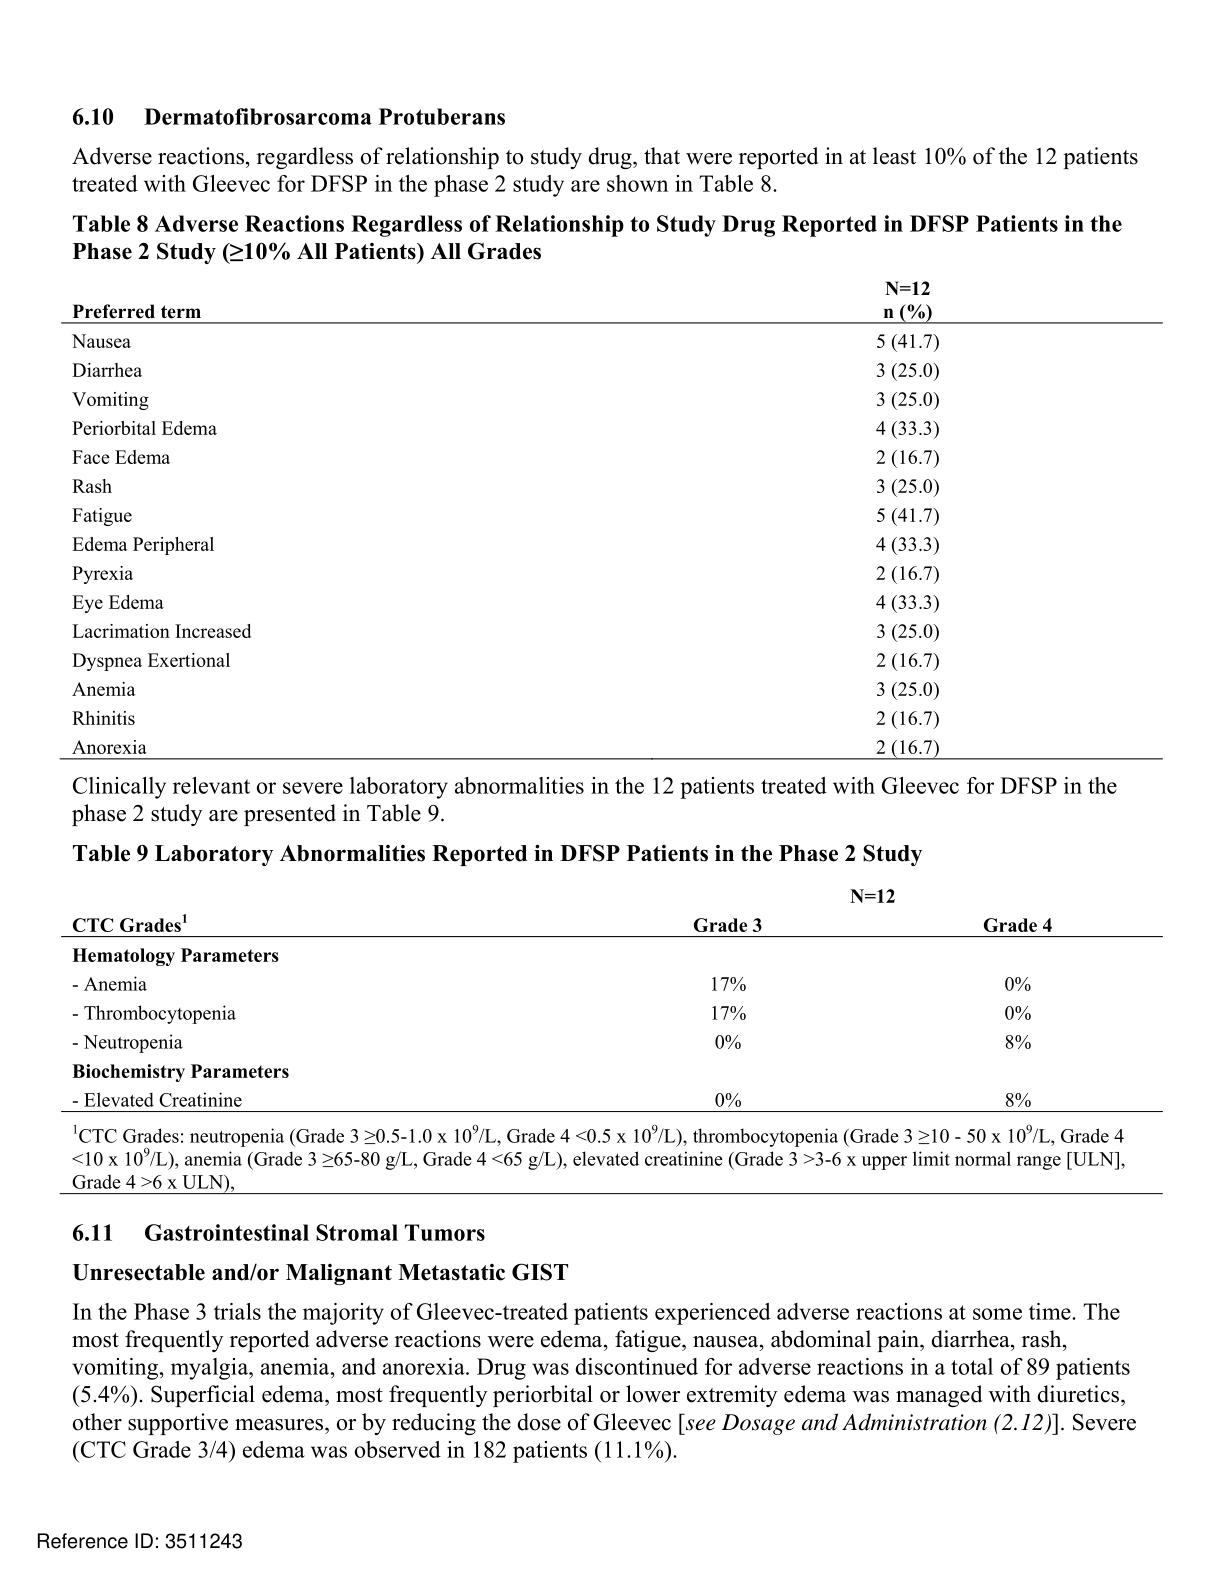partial_lined: (60, 273, 1165, 760)
partial_lined_merged_cells: (60, 878, 1165, 1113)
